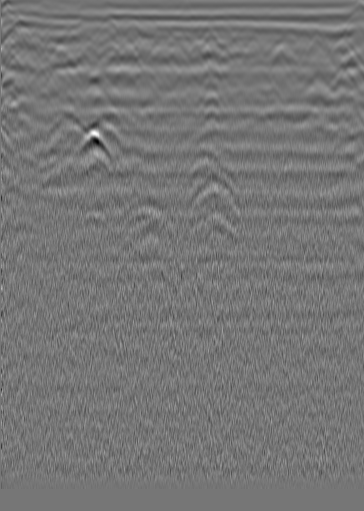가스: (70, 127, 112, 167)
상수: (310, 32, 330, 52)
오수: (7, 15, 27, 35)
우수: (201, 22, 221, 42)
